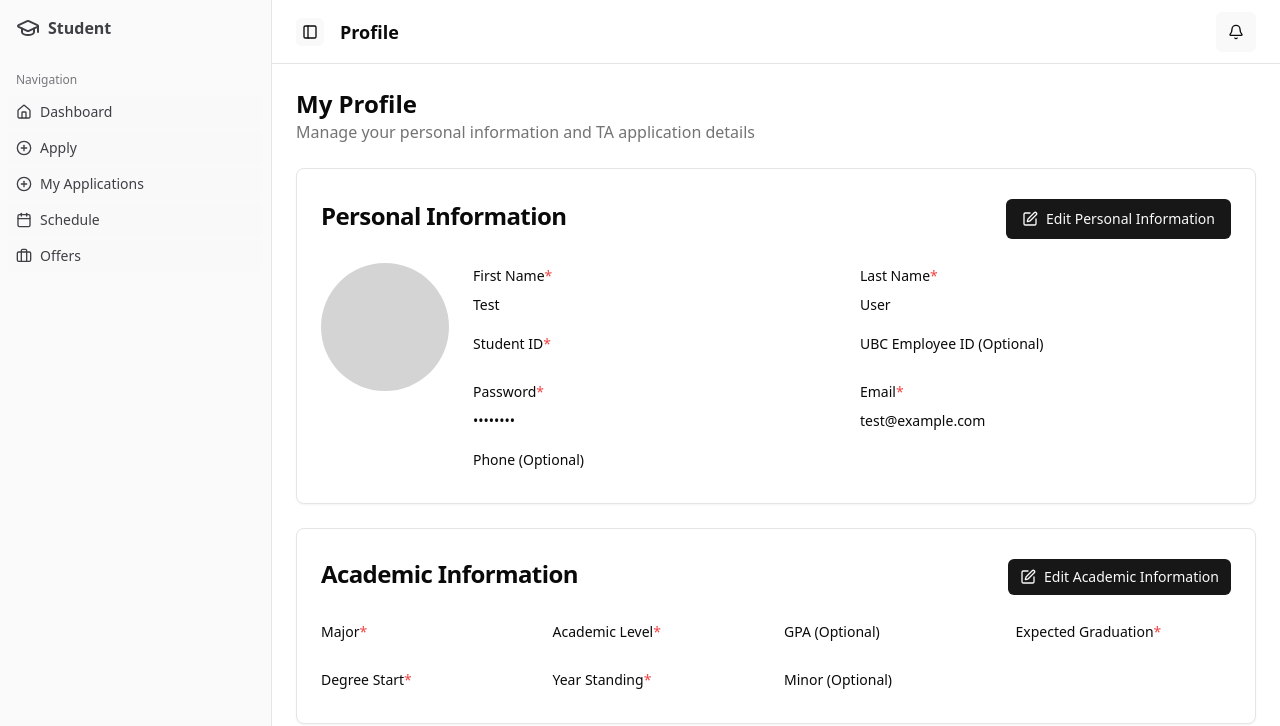
Test: ProfilePage › enables editing mode when clicking "Edit Personal Information"
Expected: the heading "My Profile" is shown, [296,87,417,120]
What coordinates should you click on to do the following:
click the button "Edit Personal Information"
I would click on:
 (1118, 219)
Its box is [1006,199,1231,239].
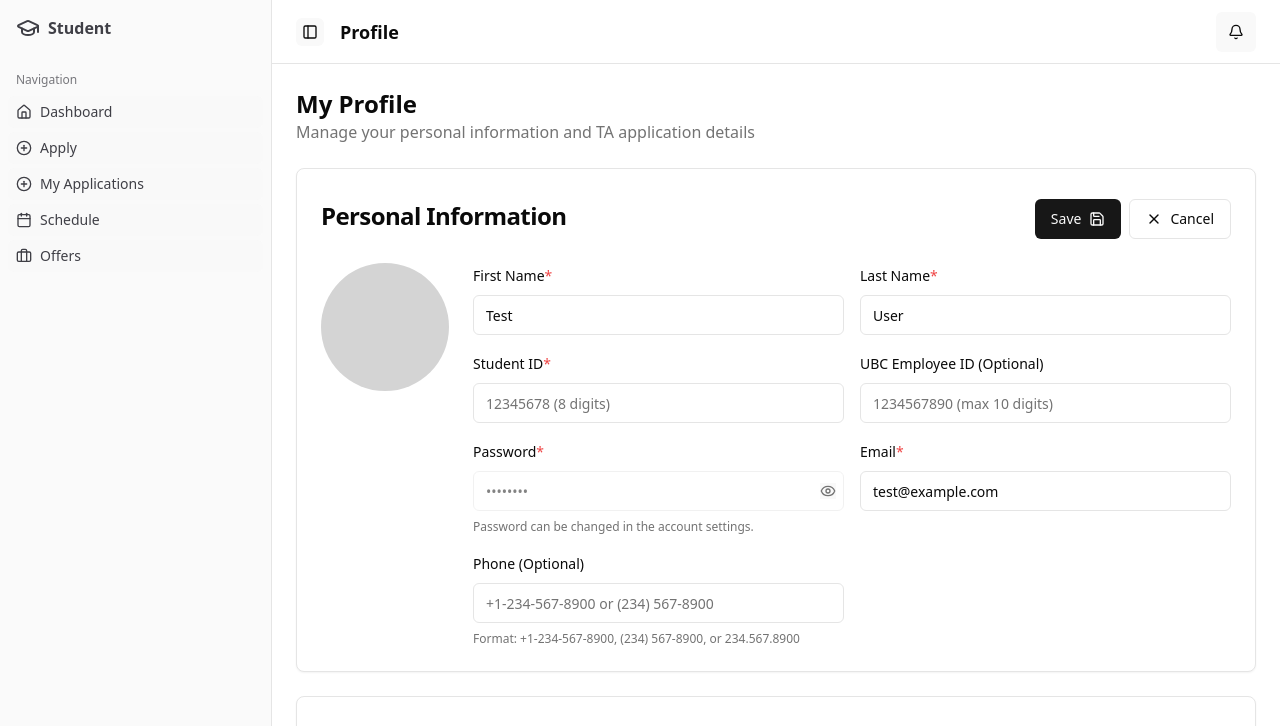
Result: the field labelled "First Name*" is shown at [473,295,844,335]
Result: the field labelled "Last Name*" is shown at [860,295,1231,335]
Result: the field labelled "Email*" holds "test@example.com" at [860,471,1231,511]
